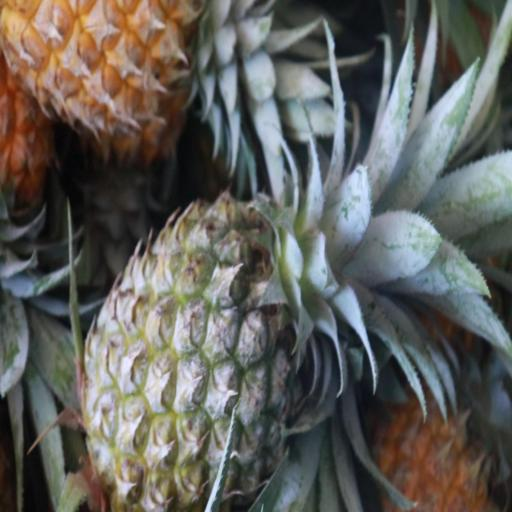------------------------------: (85, 196, 312, 512)
Pineapple - v8 v1: (2, 0, 236, 145)
